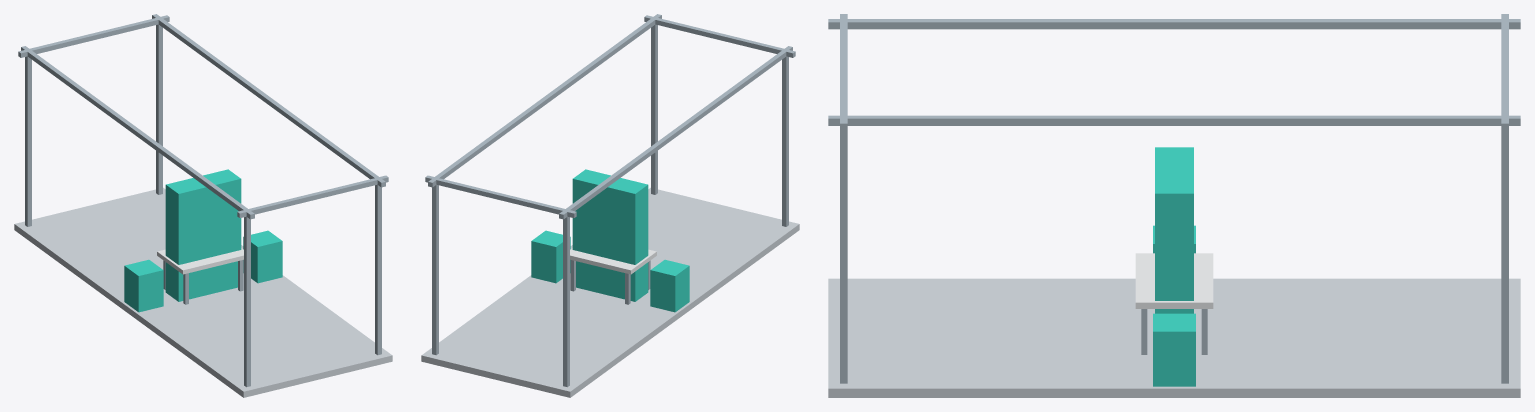
3 views of the same model, side by side, from view 1: azimuth 30°, elevation 25°; view 2: azimuth 150°, elevation 25°; view 3: azimuth 270°, elevation 25° (orthographic). The views are drawn at different scales.
Visible parts, largest first — view 1: Exhibition Booth Concept; view 2: Exhibition Booth Concept; view 3: Exhibition Booth Concept.
Boxes of the visible parts, x1,y1,x2,y2 form: Exhibition Booth Concept: (14, 14, 392, 397); Exhibition Booth Concept: (421, 14, 799, 397); Exhibition Booth Concept: (828, 14, 1520, 397).
Bounding box in the file's own units: 3 × 3.49 × 8.
